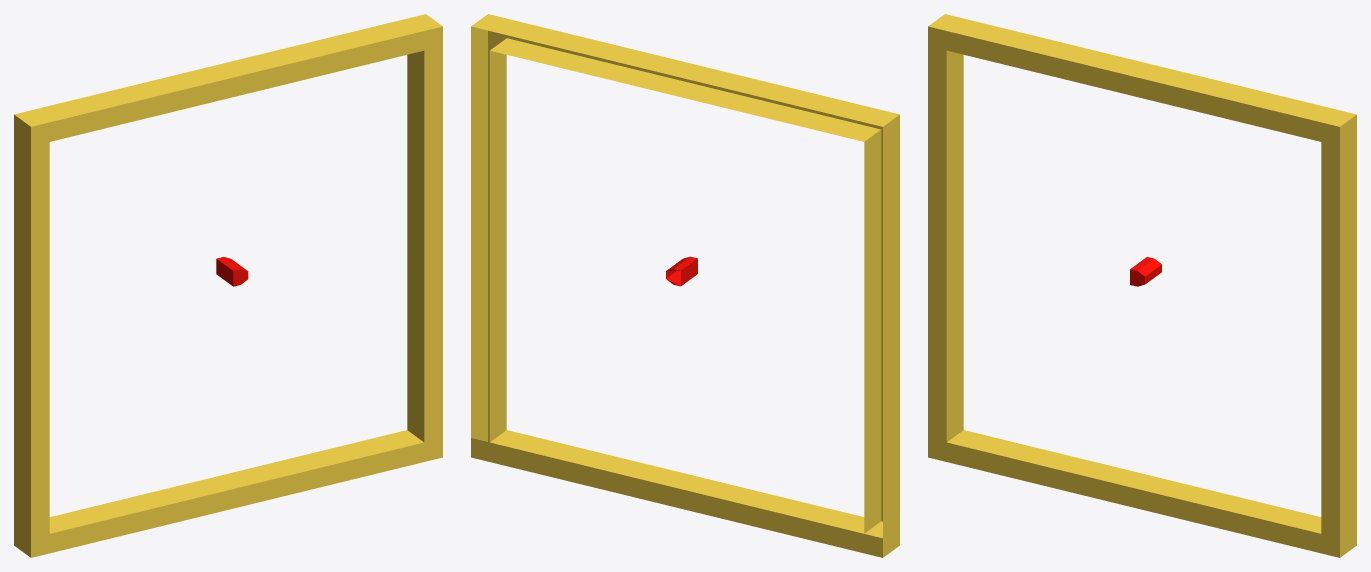
Rendered from Robot2D_ddrive.dae.
The picture shows the model from 3 angles, left to right: view 1: azimuth 30°, elevation 25°; view 2: azimuth 150°, elevation 25°; view 3: azimuth 330°, elevation 25°; orthographic projection.
Visible parts, largest first — view 1: instance_0, instance_2; view 2: instance_0, instance_2; view 3: instance_0, instance_2.
Part boxes in pixels (x1,y1,x2,y2): instance_0: (14, 14, 442, 557); instance_2: (216, 257, 248, 286); instance_0: (471, 14, 899, 557); instance_2: (666, 256, 697, 286); instance_0: (928, 14, 1356, 557); instance_2: (1130, 257, 1161, 286).
Size of the model in its own units: 1.1 by 0.0794 by 1.1.
